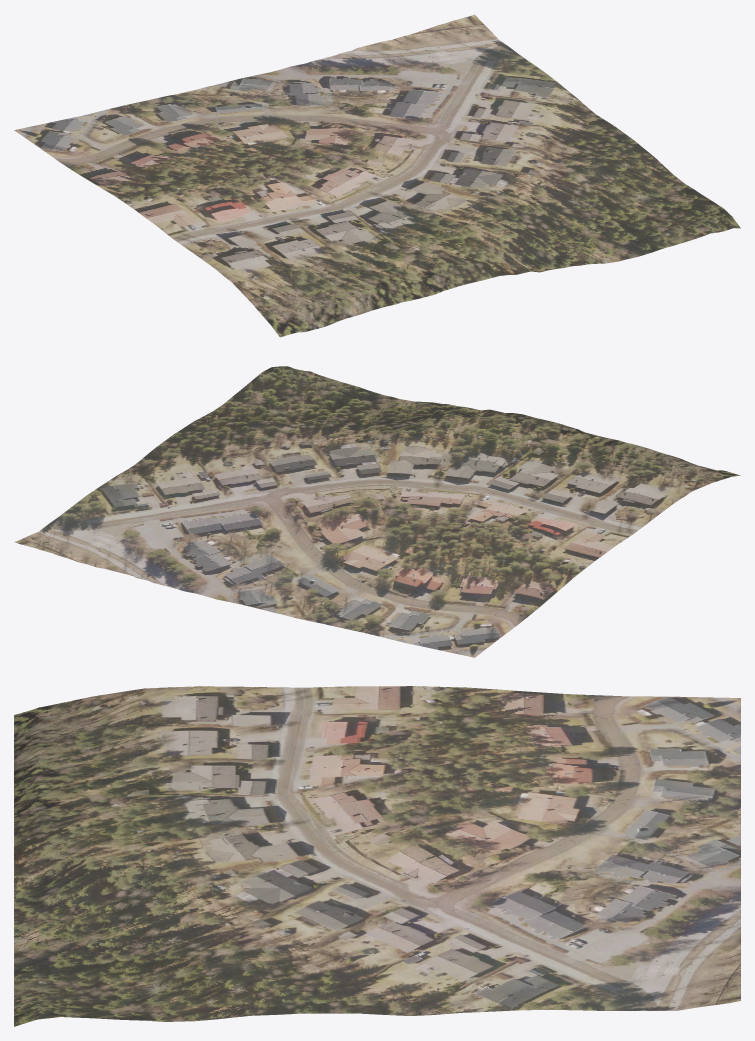
File: CM_Terrain_24490663_6816722.fbx
The picture shows the model from 3 angles, top to bottom: view 1: azimuth 30°, elevation 25°; view 2: azimuth 150°, elevation 25°; view 3: azimuth 270°, elevation 25°; orthographic projection. The views are drawn at different scales.
Parts seen in each view (by area): view 1: CM_Terrain_24490663_6816722_LOD0; view 2: CM_Terrain_24490663_6816722_LOD0; view 3: CM_Terrain_24490663_6816722_LOD0.
Boxes of the visible parts, bbox=[...] form: CM_Terrain_24490663_6816722_LOD0: bbox=[14, 14, 740, 337]; CM_Terrain_24490663_6816722_LOD0: bbox=[14, 366, 740, 657]; CM_Terrain_24490663_6816722_LOD0: bbox=[14, 686, 740, 1026].
Size of what is drawn, in the model's own units: 205 by 13.15 by 205.
